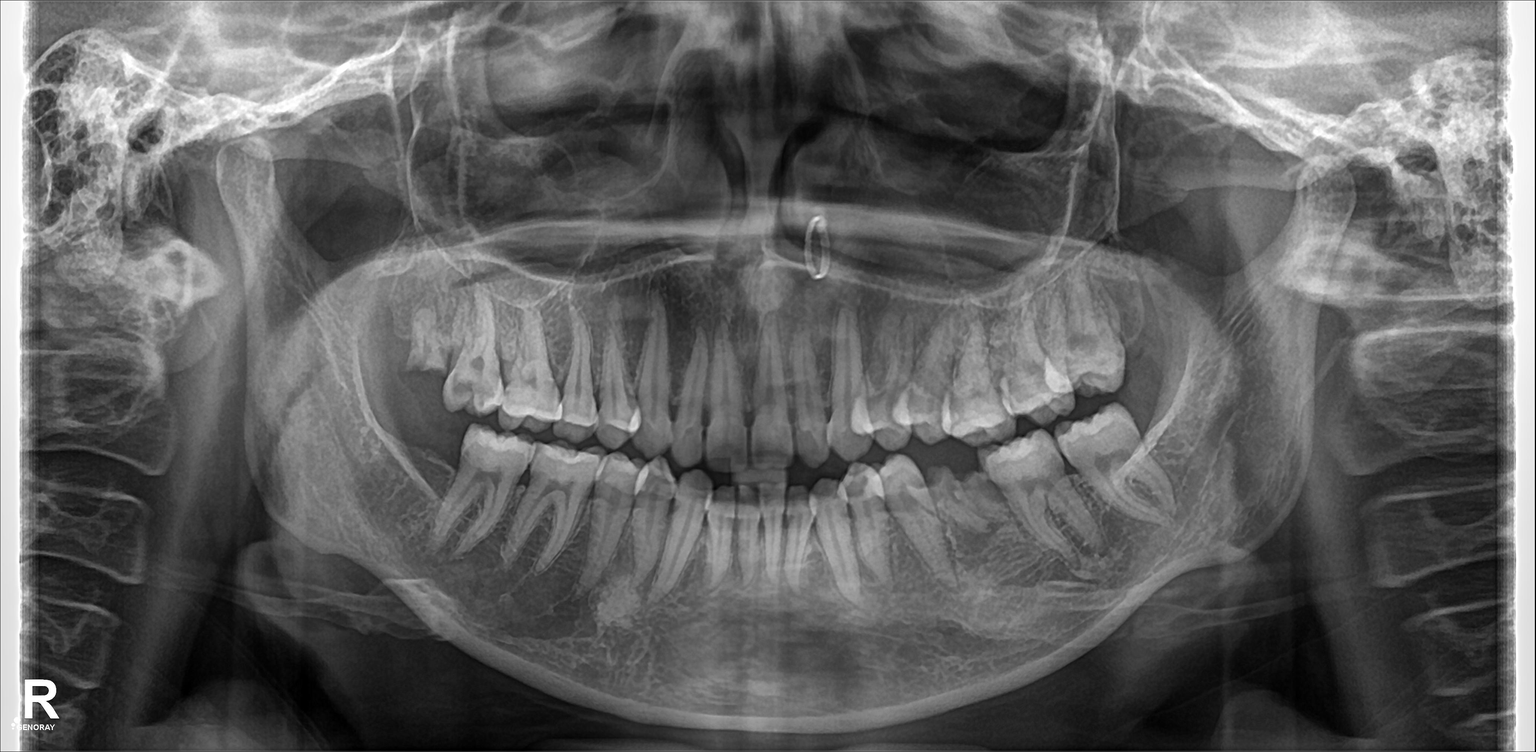Missing Tooth: (372, 406, 434, 498), (1125, 279, 1167, 367)
Retained Root: (387, 307, 454, 398), (931, 452, 986, 554)
